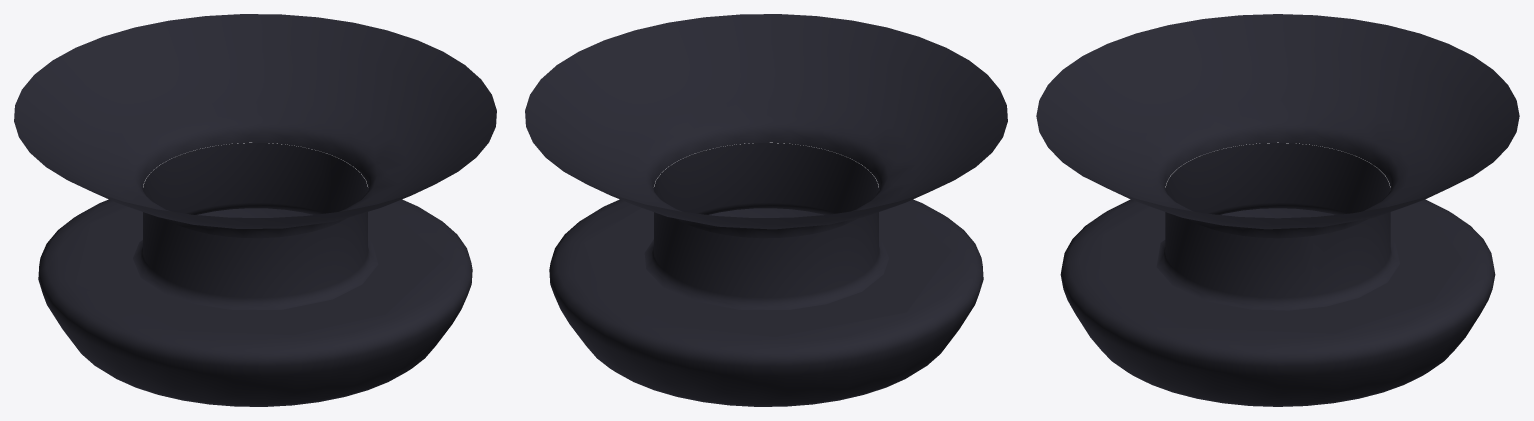
File: stick_l.obj
3 views of the same model, side by side, from view 1: azimuth 30°, elevation 25°; view 2: azimuth 150°, elevation 25°; view 3: azimuth 270°, elevation 25° (orthographic).
Visible parts, largest first — view 1: stick_l; view 2: stick_l; view 3: stick_l.
Boxes of the visible parts, <box> form: stick_l: <box>14,14,496,406</box>; stick_l: <box>525,14,1007,406</box>; stick_l: <box>1036,14,1519,406</box>.
Bounding box in the file's own units: 0.2601 × 0.1295 × 0.2601.
